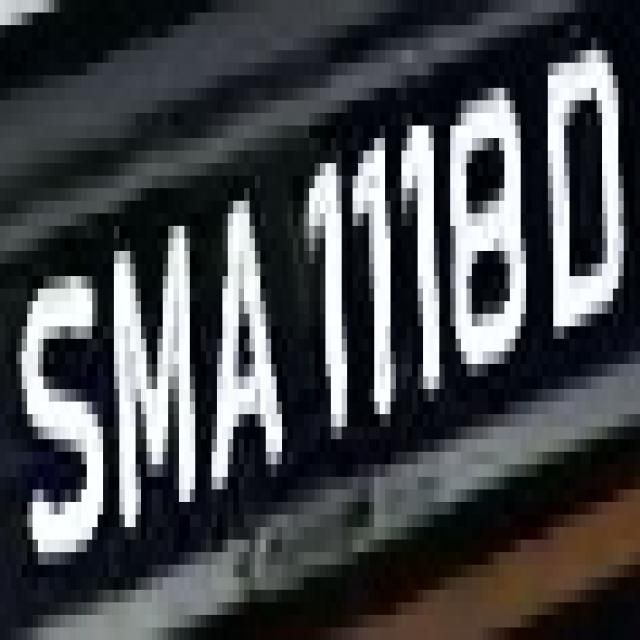1: (304, 100, 358, 452), (358, 88, 407, 452), (412, 75, 450, 427)
8: (434, 50, 531, 389)
A: (184, 163, 298, 502)
D: (531, 24, 640, 351)
M: (98, 201, 206, 552)
S: (16, 213, 103, 602)
